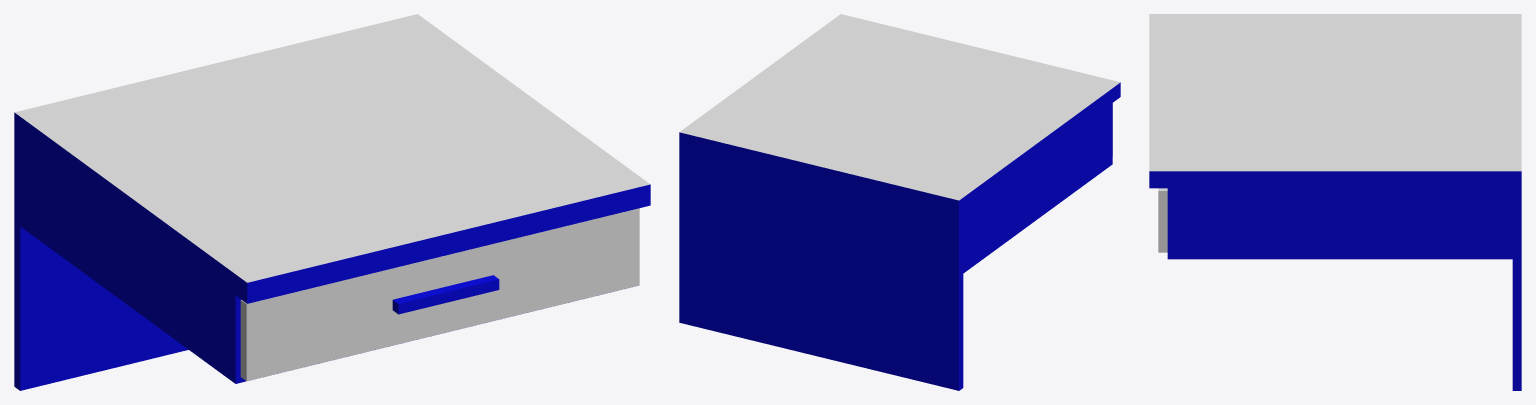
The model's file is c_1drawer.fbx.
3 renders of one model, left to right at view 1: azimuth 30°, elevation 25°; view 2: azimuth 150°, elevation 25°; view 3: azimuth 270°, elevation 25°, orthographic. The views are drawn at different scales.
Parts seen in each view (by area): view 1: pCube130, pCube90, polySurface31; view 2: pCube90, pCube130; view 3: pCube130, pCube90, polySurface31.
Part boxes in pixels (x1=…): pCube130: x1=14, y1=14, x2=650, y2=303; pCube90: x1=14, y1=133, x2=625, y2=390; polySurface31: x1=240, y1=208, x2=639, y2=381; pCube90: x1=679, y1=103, x2=1112, y2=390; pCube130: x1=679, y1=14, x2=1120, y2=214; pCube130: x1=1149, y1=14, x2=1521, y2=188; pCube90: x1=1167, y1=188, x2=1521, y2=390; polySurface31: x1=1158, y1=188, x2=1167, y2=252.
Bounding box in the file's own units: 200 × 130 × 200.
